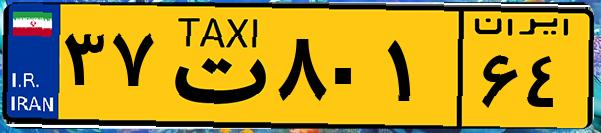0: (330, 28, 385, 110)
1: (385, 28, 445, 110)
3: (57, 26, 110, 100)
4: (525, 38, 570, 115)
6: (475, 38, 525, 113)
7: (110, 28, 158, 98)
8: (270, 28, 330, 110)
ت: (158, 12, 270, 120)
